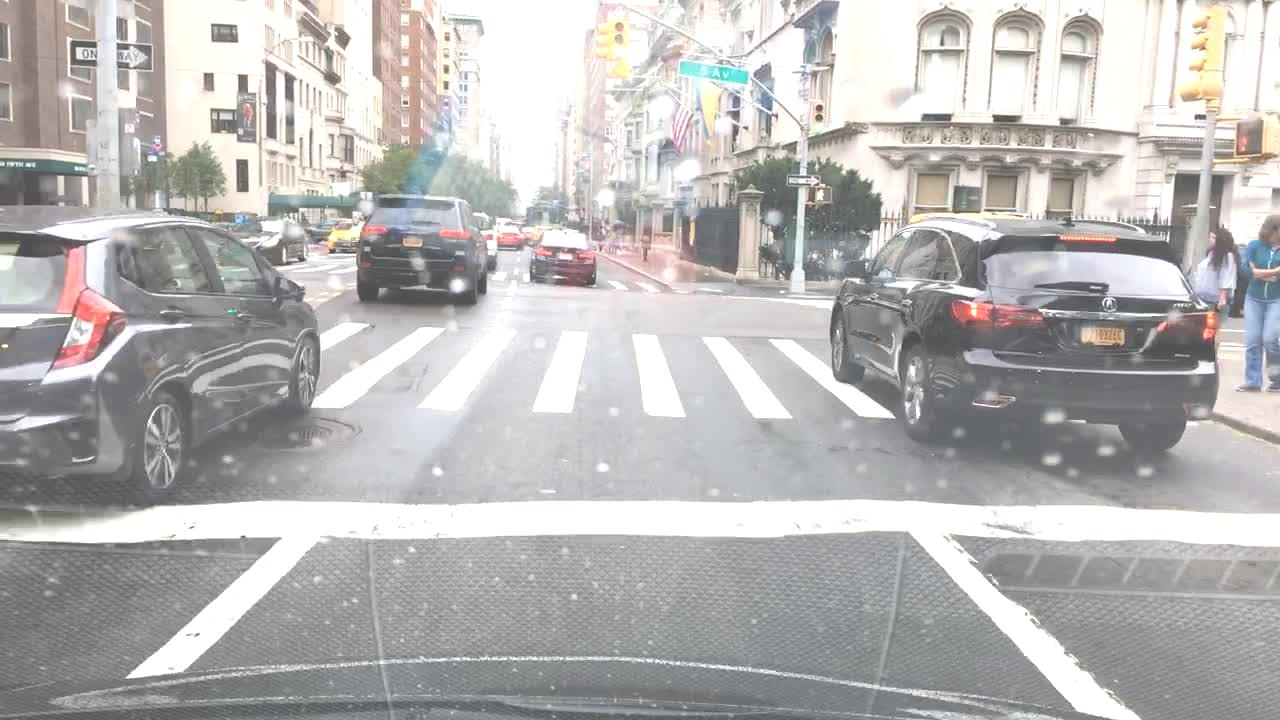acura: (1099, 291, 1123, 313)
